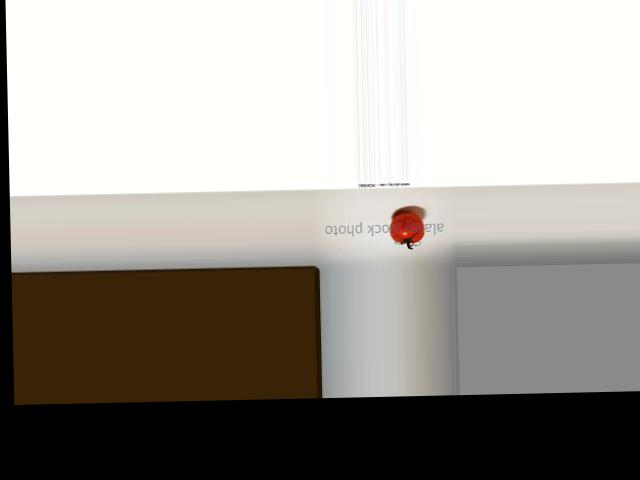tomato: (388, 211, 424, 244)
